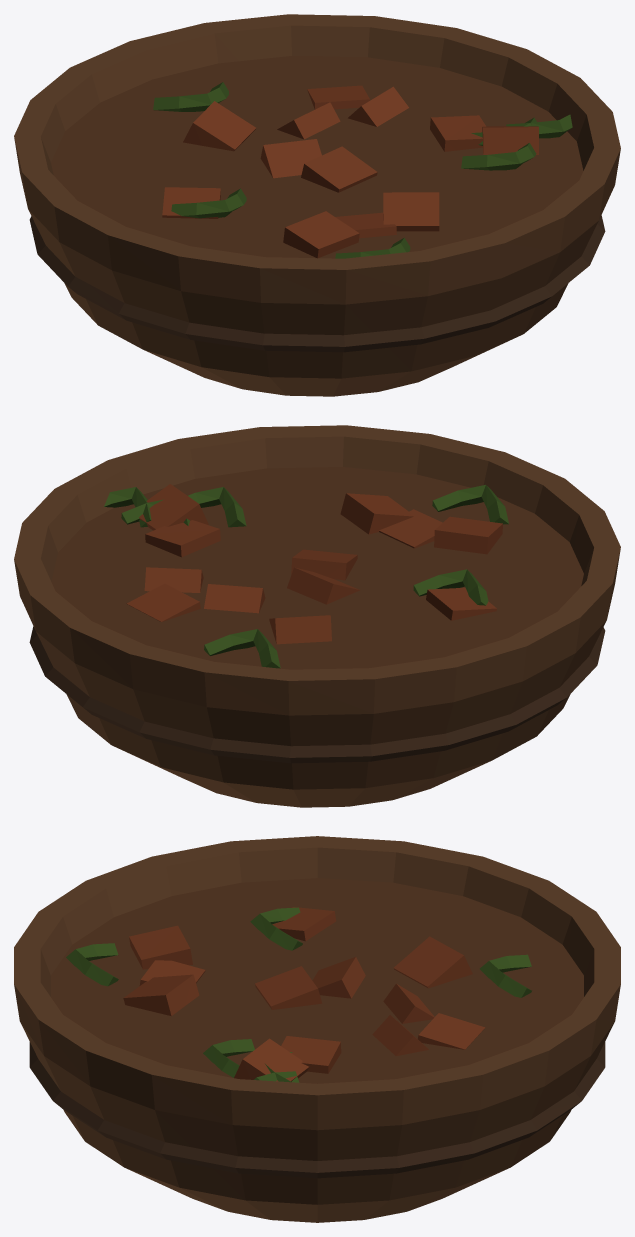
File: VFP_Food_DraugrStew.obj
3 views of the same model, one above another, from view 1: azimuth 30°, elevation 25°; view 2: azimuth 150°, elevation 25°; view 3: azimuth 270°, elevation 25° (orthographic).
Parts seen in each view (by area): view 1: Bowl, Fill, Chunks, Bowl_wood_dark, Seaweed; view 2: Bowl, Fill, Chunks, Bowl_wood_dark, Seaweed; view 3: Bowl, Fill, Chunks, Bowl_wood_dark, Seaweed.
Part boxes in pixels (bbox=[...]): Bowl: bbox=[14, 14, 620, 396]; Fill: bbox=[51, 56, 583, 258]; Chunks: bbox=[162, 85, 538, 258]; Bowl_wood_dark: bbox=[29, 215, 605, 352]; Seaweed: bbox=[153, 82, 572, 258]; Bowl: bbox=[14, 425, 620, 807]; Fill: bbox=[51, 467, 583, 669]; Chunks: bbox=[126, 484, 502, 644]; Bowl_wood_dark: bbox=[29, 626, 605, 763]; Seaweed: bbox=[104, 485, 508, 668]; Bowl: bbox=[14, 836, 620, 1222]; Fill: bbox=[51, 878, 583, 1083]; Chunks: bbox=[123, 907, 485, 1081]; Bowl_wood_dark: bbox=[29, 1042, 605, 1178]; Seaweed: bbox=[66, 907, 531, 1082].
Bounding box in the file's own units: 0.3264 × 0.11 × 0.323.
